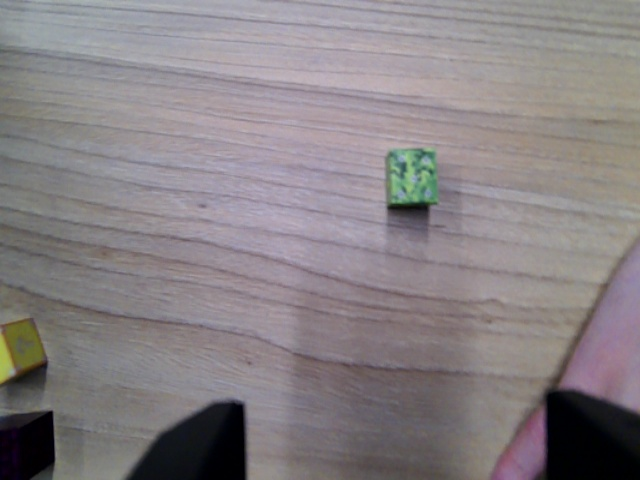grass: (383, 143, 441, 211)
